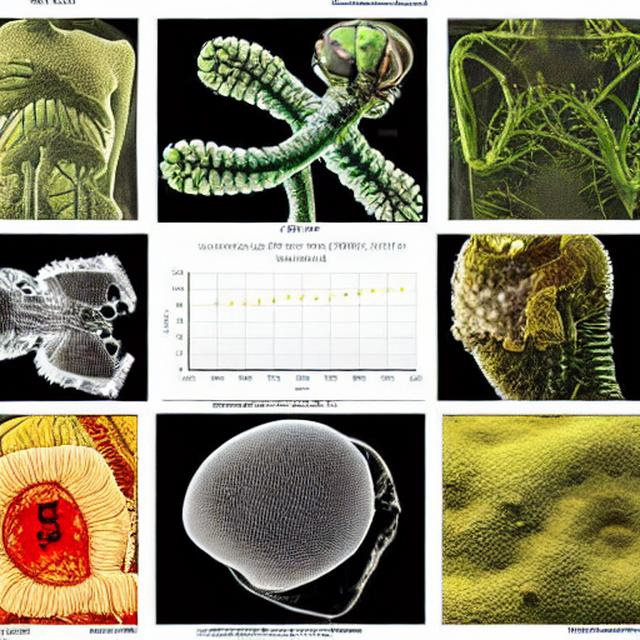Graph: (158, 235, 428, 398)
